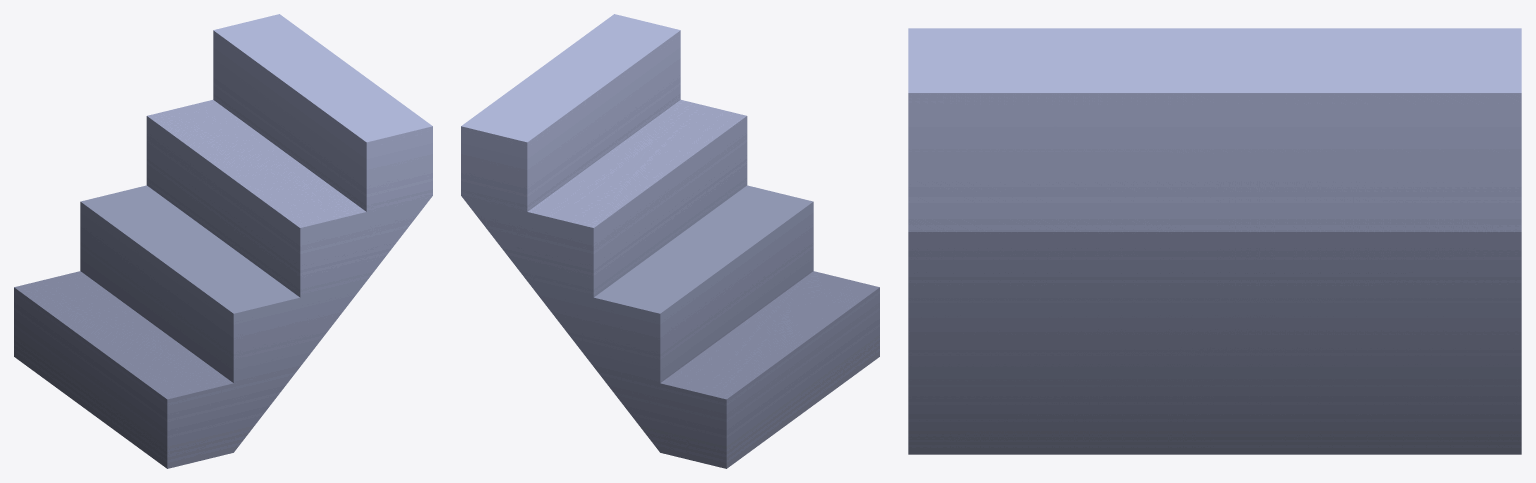
File: stairs-diagonal.glb
3 renders of one model, left to right at view 1: azimuth 30°, elevation 25°; view 2: azimuth 150°, elevation 25°; view 3: azimuth 270°, elevation 25°, orthographic. The views are drawn at different scales.
Visible parts, largest first — view 1: stairs-diagonal; view 2: stairs-diagonal; view 3: stairs-diagonal.
Boxes of the visible parts, x1,y1,x2,y2 form: stairs-diagonal: [14, 14, 432, 468]; stairs-diagonal: [461, 14, 879, 468]; stairs-diagonal: [908, 28, 1521, 454].
Size of the model in its own units: 1 by 1 by 1.
Materials: 1 (1 with a texture image).
